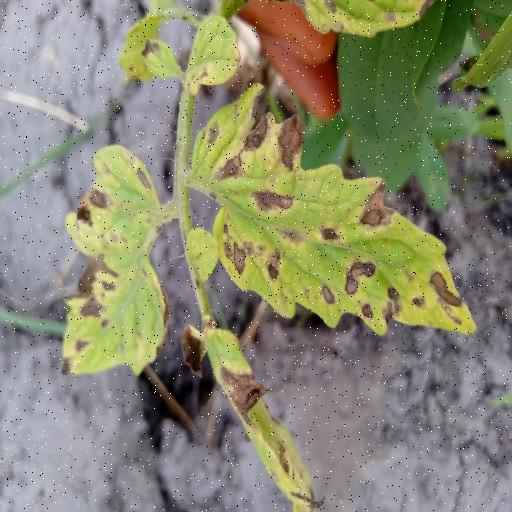Tomato_Brown_Spots: (190, 81, 478, 339), (56, 140, 172, 382)
